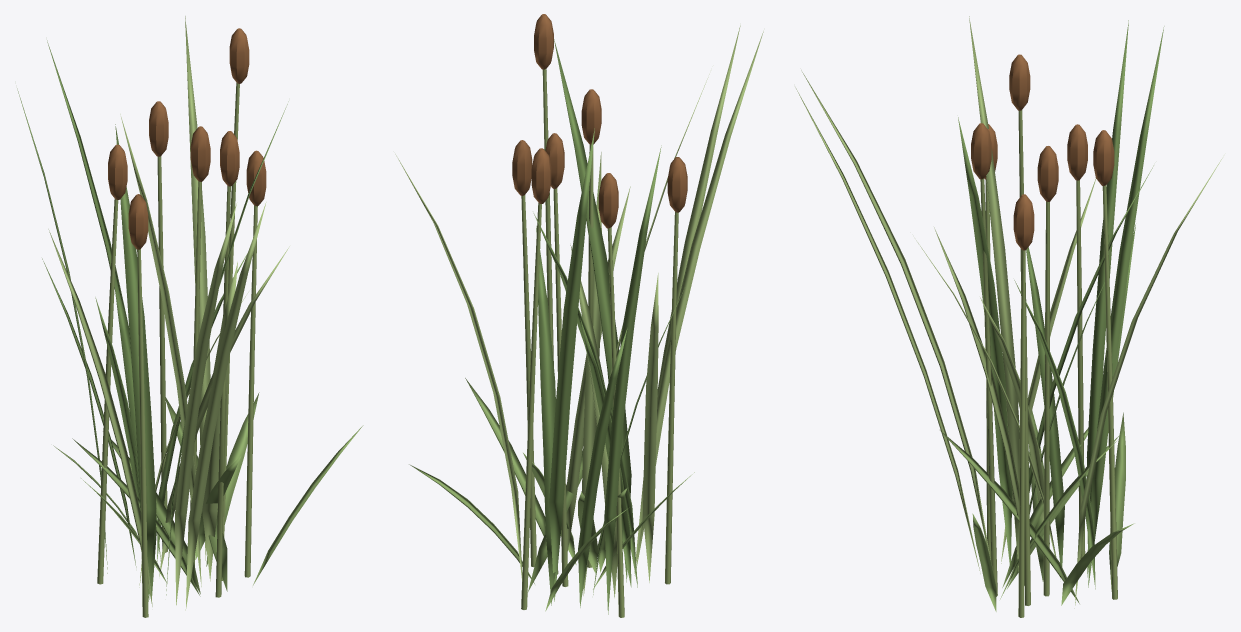
Rendered from reeds.glb.
3 renders of one model, left to right at view 1: azimuth 30°, elevation 25°; view 2: azimuth 150°, elevation 25°; view 3: azimuth 270°, elevation 25°, orthographic.
Visible parts, largest first — view 1: reeds; view 2: reeds; view 3: reeds.
Boxes of the visible parts, box(x1,y1,x2,y2) form: reeds: box(17, 16, 363, 617); reeds: box(395, 14, 763, 617); reeds: box(795, 16, 1222, 617).
Bounding box in the file's own units: 0.8006 × 1.54 × 1.09.
